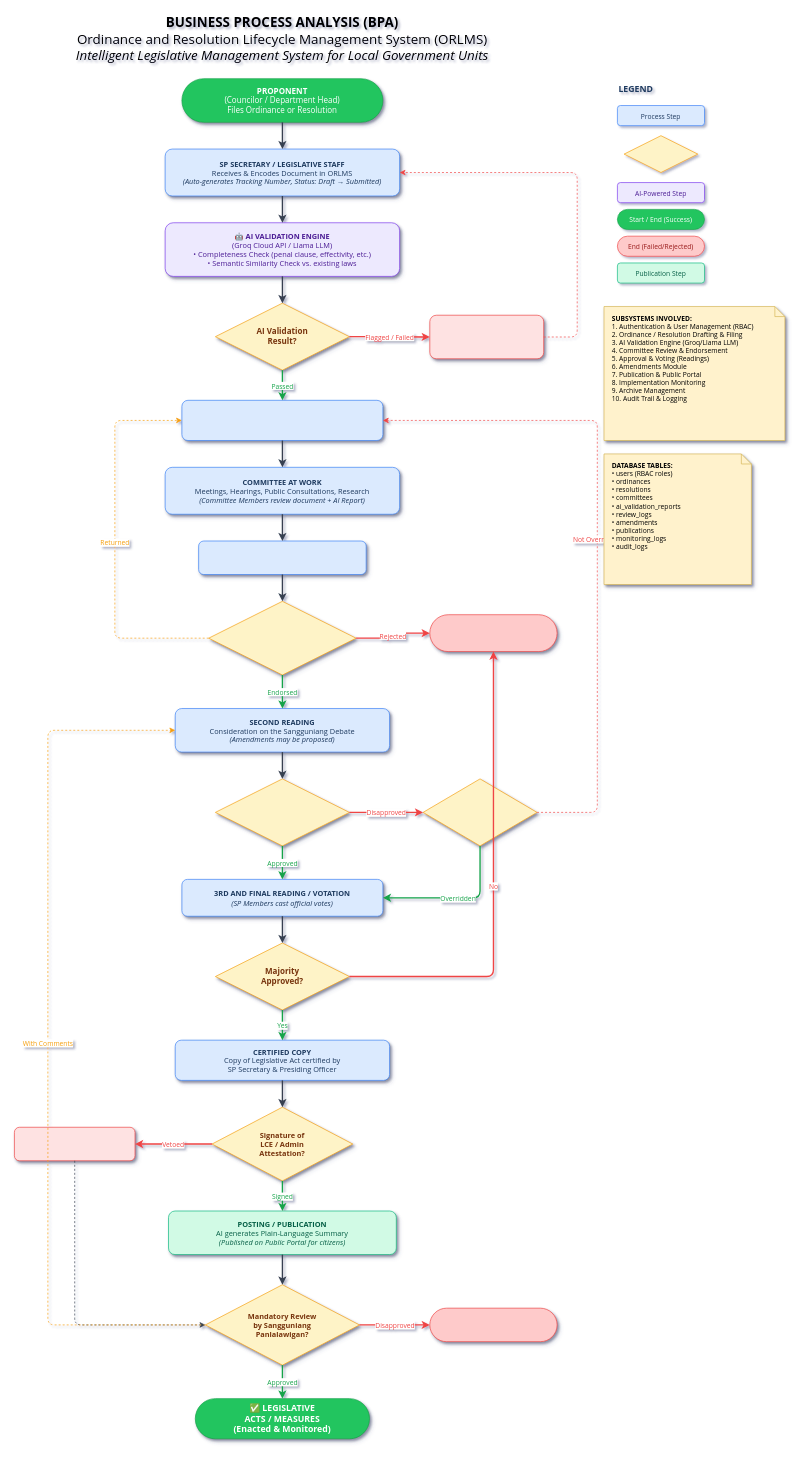
Some shapes in this 805 by 1459 pixel diagram are drawn without their labels. The shapes that lost their labels are listed below. From the top down, each one's centre as x and y in pixels, then its label:
the point at 660,154: Decision Point
the point at 487,337: Return to Staff for Revision (Flagged / Failed)
the point at 283,421: FIRST READING Referral to Concerned Committee (Status: Under Review)
the point at 282,558: COMMITTEE REPORTING (Logged in review_logs)
the point at 282,639: Committee Recommendation?
the point at 493,633: DOCUMENT REJECTED & ARCHIVED
the point at 282,813: Approved on 2nd Reading?
the point at 480,813: Override 2/3 Vote?
the point at 75,1144: VETO MESSAGE by the LCE
the point at 493,1325: NO LEGISLATIVE ACTS / MEASURES
